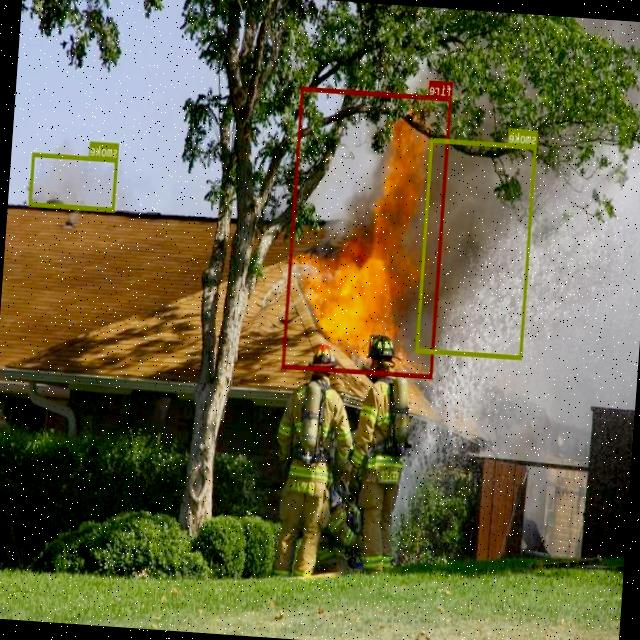fire: (282, 85, 452, 378)
smoke: (416, 136, 537, 358), (28, 152, 118, 212)
